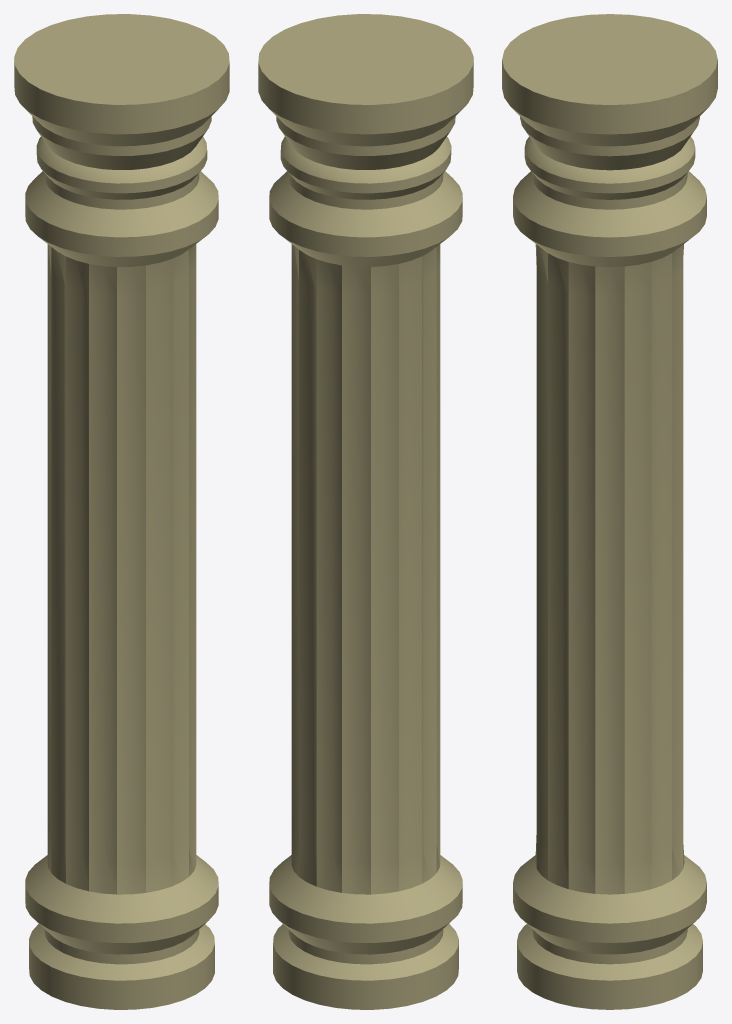
File: Column1.fbx
The picture shows the model from 3 angles, left to right: view 1: azimuth 30°, elevation 25°; view 2: azimuth 150°, elevation 25°; view 3: azimuth 270°, elevation 25°; orthographic projection.
Visible parts, largest first — view 1: Column; view 2: Column; view 3: Column.
Part boxes in pixels (<box>): Column: <box>14,14,229,1009</box>; Column: <box>258,14,473,1009</box>; Column: <box>502,14,717,1009</box>.
Size of the model in its own units: 200 by 931 by 200.
